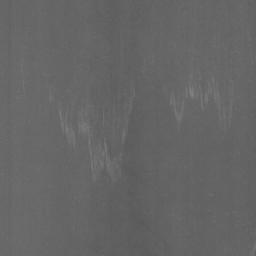Silk spot: (68, 115, 82, 139), (102, 136, 114, 161), (123, 165, 137, 180), (199, 79, 208, 100), (101, 160, 110, 178), (125, 140, 133, 152)
